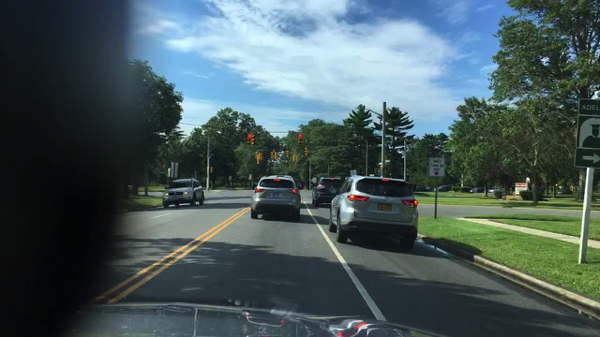car: (329, 176, 418, 250), (251, 174, 301, 221), (162, 177, 205, 207), (311, 176, 345, 207), (488, 187, 505, 195), (470, 186, 484, 195), (436, 184, 450, 192), (459, 184, 469, 193)
traffic light: (246, 133, 251, 146), (297, 132, 302, 144), (258, 152, 263, 163), (273, 151, 278, 161), (252, 132, 255, 147), (305, 147, 309, 157), (209, 166, 213, 175), (285, 149, 289, 158), (254, 151, 257, 161), (270, 151, 273, 160), (292, 154, 295, 161)
traffic sign: (574, 99, 599, 167), (428, 156, 442, 176), (349, 169, 357, 176), (384, 158, 390, 164)
